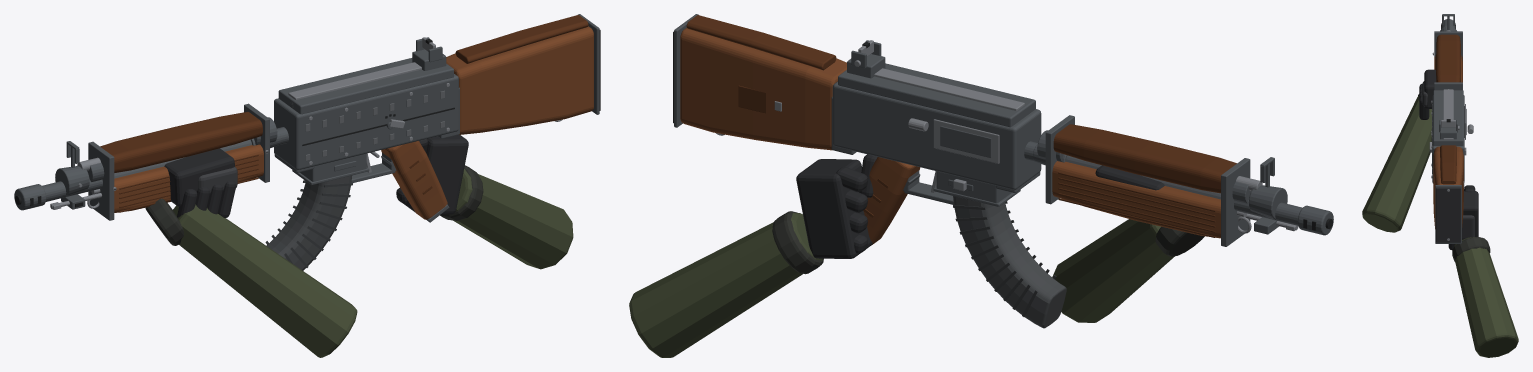
The model's file is ak47_fps.glb.
The picture shows the model from 3 angles, left to right: view 1: azimuth 30°, elevation 25°; view 2: azimuth 150°, elevation 25°; view 3: azimuth 270°, elevation 25°; orthographic projection. The views are drawn at different scales.
Parts seen in each view (by area): view 1: AK_Body, Arms, AK_Magazine; view 2: AK_Body, Arms, AK_Magazine; view 3: Arms, AK_Body.
Boxes of the visible parts, box(x1,y1,x2,y2) form: AK_Body: box(14, 14, 600, 222); Arms: box(145, 135, 573, 357); AK_Magazine: box(265, 161, 356, 270); AK_Body: box(673, 14, 1333, 246); Arms: box(629, 154, 1204, 357); AK_Magazine: box(948, 179, 1066, 328); Arms: box(1362, 69, 1518, 357); AK_Body: box(1429, 14, 1466, 243).
Size of the model in its own units: 0.9005 by 0.4207 by 0.3115.
